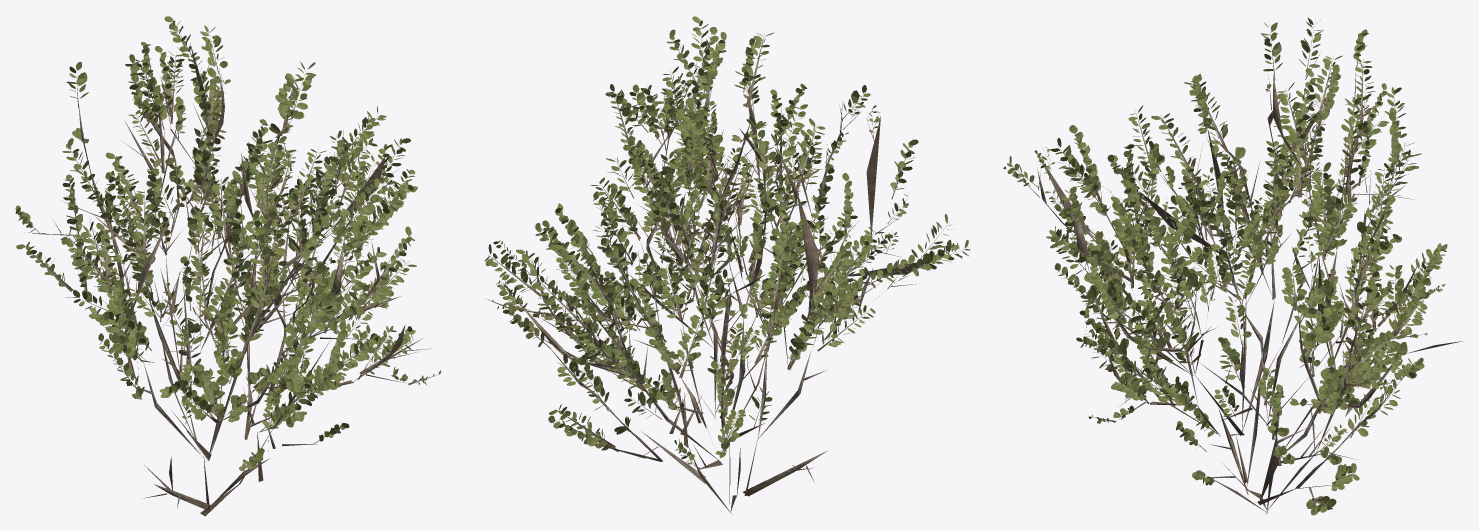
File: searsia_lucida_a.gltf
3 views of the same model, side by side, from view 1: azimuth 30°, elevation 25°; view 2: azimuth 150°, elevation 25°; view 3: azimuth 270°, elevation 25° (orthographic). The views are drawn at different scales.
Visible parts, largest first — view 1: searsia_lucida_a__x; view 2: searsia_lucida_a__x; view 3: searsia_lucida_a__x.
Boxes of the visible parts, box(x1,y1,x2,y2) form: searsia_lucida_a__x: box(15, 16, 441, 516); searsia_lucida_a__x: box(484, 16, 970, 513); searsia_lucida_a__x: box(1003, 17, 1462, 515).
Size of the model in its own units: 1.77 by 2.34 by 1.96.
2 materials, 2 textured.
